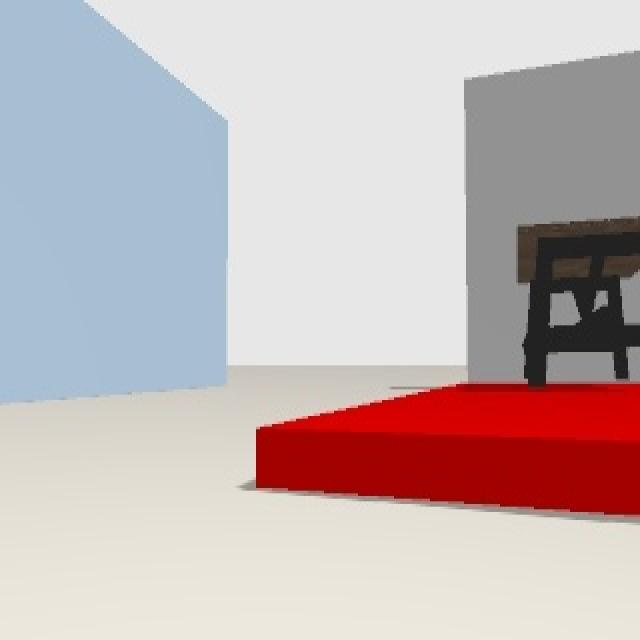dining: (516, 213, 640, 392)
